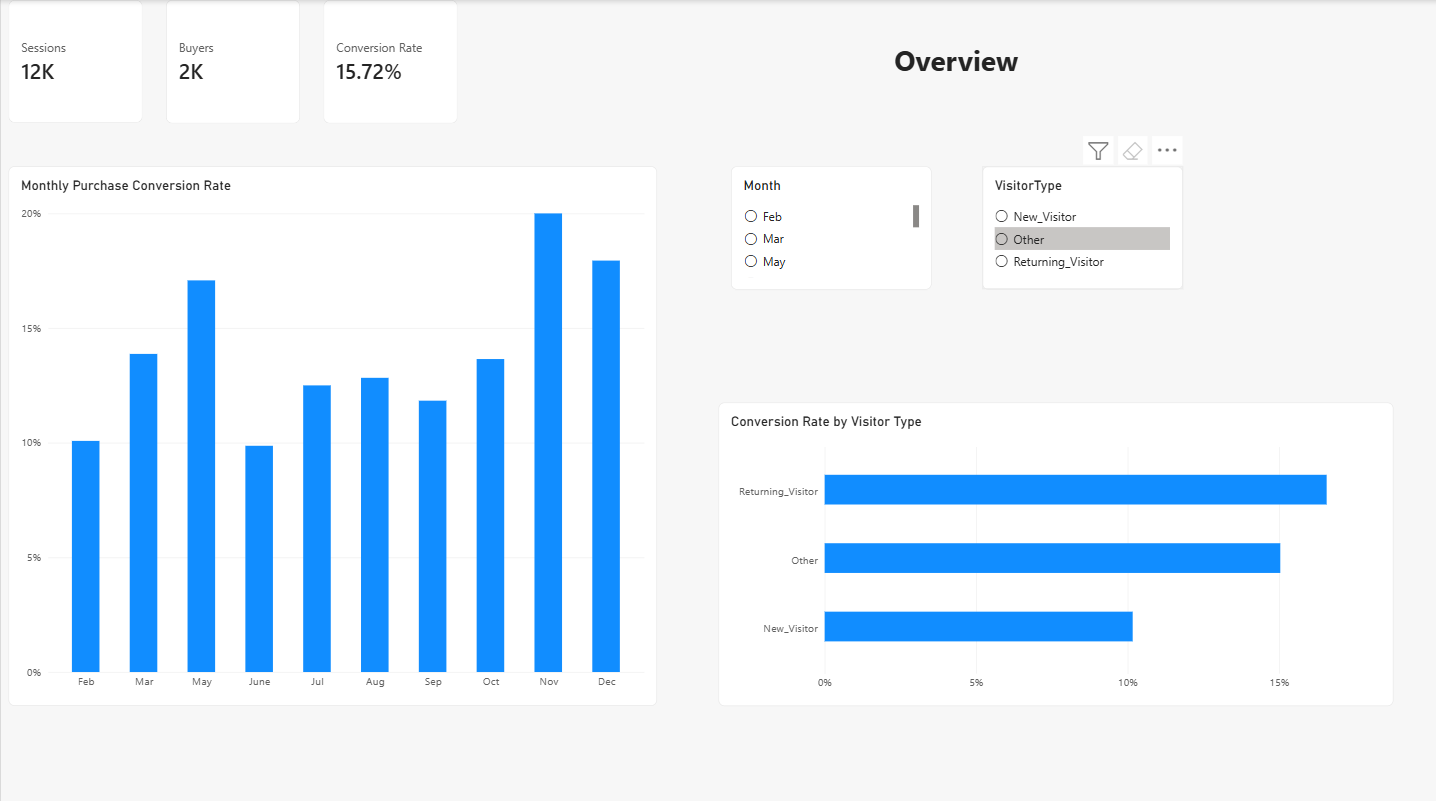

Layout of this report page (visuals, bound fields, positions):
{"tool":"powerbi","page":{"name":"Overview","canvas":[1920,1080],"ordinal":0},"visuals":[{"type":"cardVisual","fields":{"Data":["v_sessions_enriched.Sessions"]},"box":[10.3,0,179.1,164.7],"z":0},{"type":"cardVisual","fields":{"Data":["v_sessions_enriched.Buyers"]},"box":[220.2,0,179,165],"z":1000},{"type":"cardVisual","fields":{"Data":["v_sessions_enriched.Conversion Rate"]},"box":[430.2,0,179,165],"z":2000},{"type":"clusteredColumnChart","title":"Monthly Purchase Conversion Rate","fields":{"Category":["v_sessions_enriched.Month"],"Y":["v_sessions_enriched.Conversion Rate"]},"box":[10.3,222.3,866.6,720.4],"z":3000},{"type":"clusteredBarChart","title":"Conversion Rate by Visitor Type","fields":{"Category":["v_sessions_enriched.VisitorType"],"Y":["v_sessions_enriched.Conversion Rate"]},"box":[959.2,537.2,901.5,405.5],"z":4000},{"type":"listSlicer","fields":{"Values":["v_sessions_enriched.Month"]},"box":[975.6,222.3,268,165],"z":5000},{"type":"listSlicer","fields":{"Values":["v_sessions_enriched.VisitorType"]},"box":[1311.2,222.3,268,165],"z":6000},{"type":"textbox","box":[1142.4,0,268,165],"z":7000}]}

Visuals, with their boxes in screenshot pixels (x1, y1, x2, y2), scaled from the page's 1920x1080 canvas onto the 1436x801 screenshot:
cardVisual - v_sessions_enriched.Sessions: {"left": 8, "top": 0, "right": 142, "bottom": 122}
cardVisual - v_sessions_enriched.Buyers: {"left": 165, "top": 0, "right": 299, "bottom": 122}
cardVisual - v_sessions_enriched.Conversion Rate: {"left": 322, "top": 0, "right": 456, "bottom": 122}
"Monthly Purchase Conversion Rate" clusteredColumnChart: {"left": 8, "top": 165, "right": 656, "bottom": 699}
"Conversion Rate by Visitor Type" clusteredBarChart: {"left": 717, "top": 398, "right": 1392, "bottom": 699}
listSlicer - v_sessions_enriched.Month: {"left": 730, "top": 165, "right": 930, "bottom": 287}
listSlicer - v_sessions_enriched.VisitorType: {"left": 981, "top": 165, "right": 1181, "bottom": 287}
textbox: {"left": 854, "top": 0, "right": 1055, "bottom": 122}
